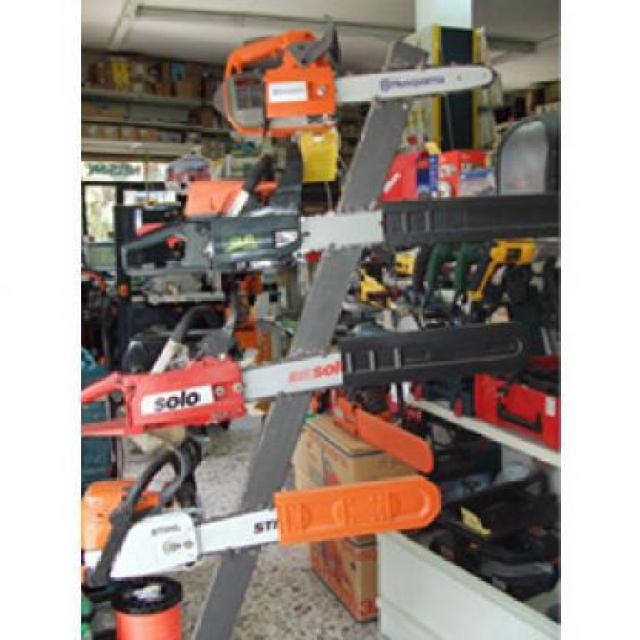Chainsaw: (80, 434, 280, 626), (200, 11, 497, 140), (120, 154, 385, 294), (83, 302, 343, 432)
